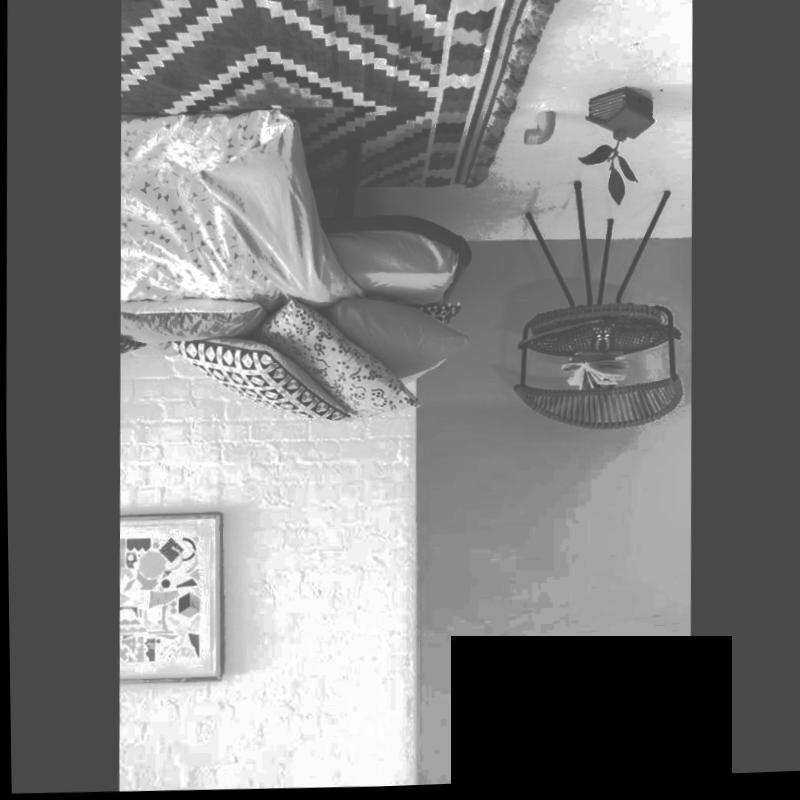pillow: (175, 334, 345, 432), (285, 296, 413, 420), (120, 301, 274, 359), (420, 305, 464, 324)
